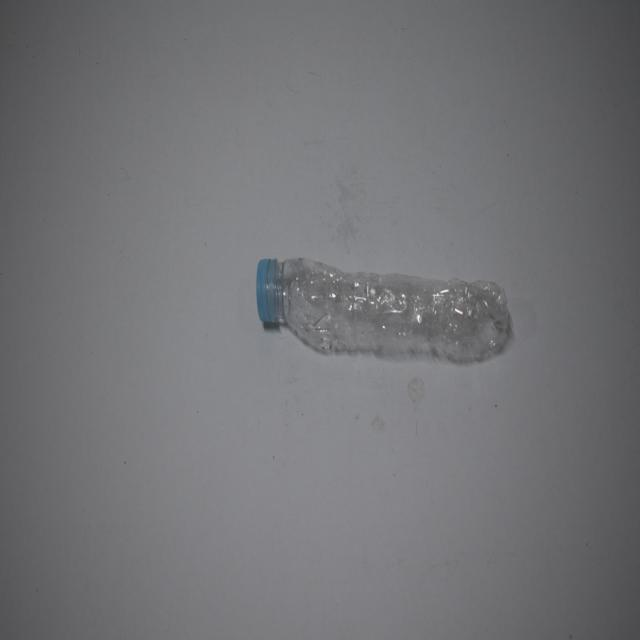bottle: (240, 226, 528, 403)
